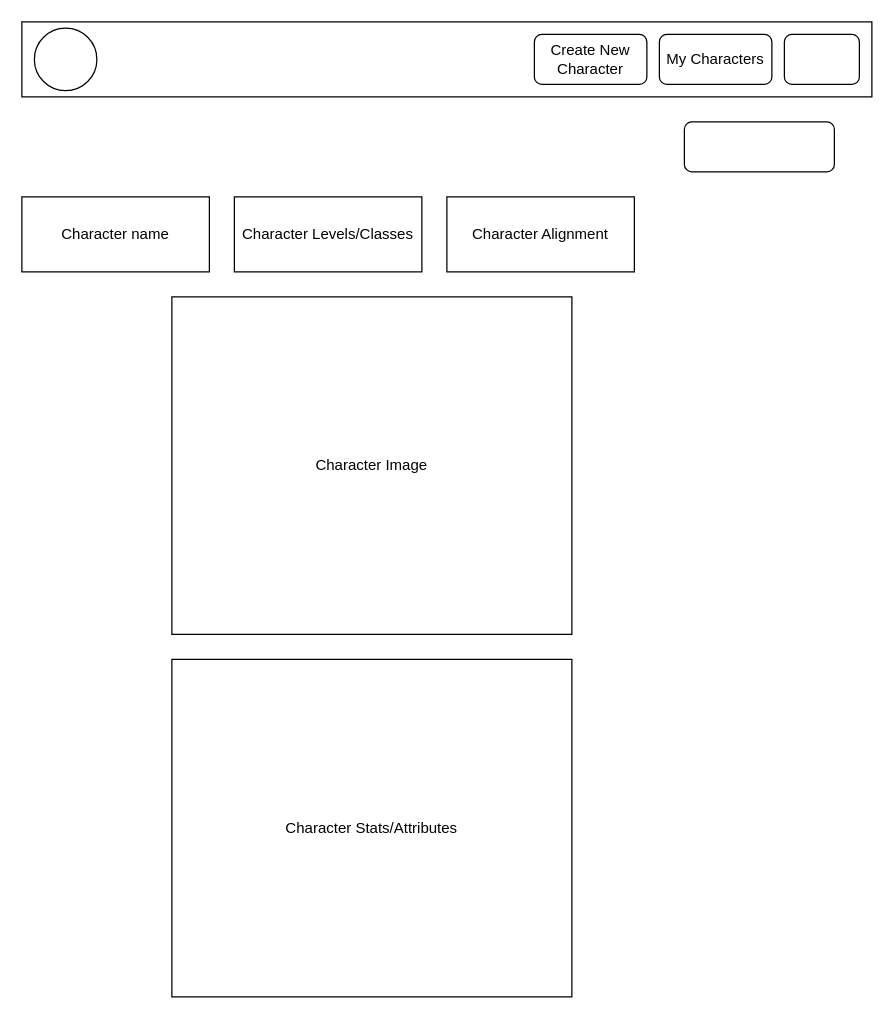
Some shapes in this 894 by 1019 pixel diagram are drawn without their labels. The box of each missing label's shape, as (x1, y1, x2, y2) in pixels:
Delete Character: (683, 121, 834, 172)
Logout: (783, 33, 859, 84)
user icon: (33, 27, 97, 91)
